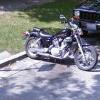Motorcycle: (17, 13, 100, 79)
